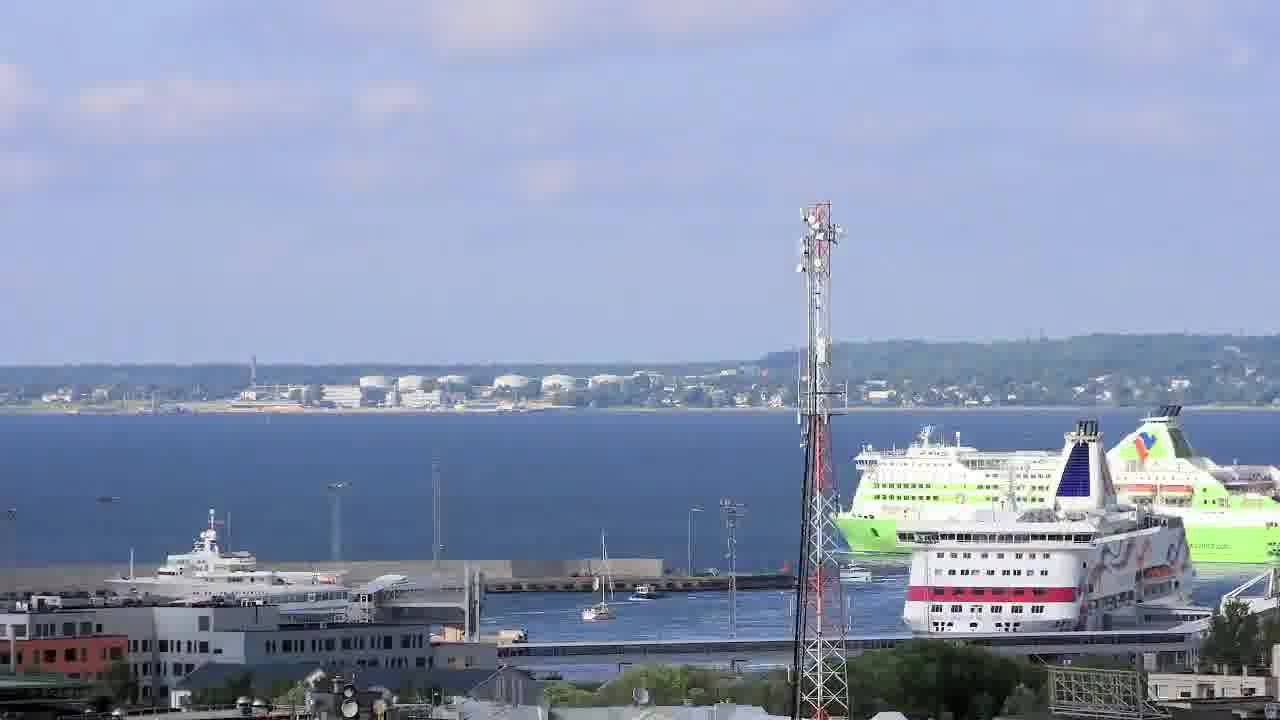type-0: (566, 595, 625, 635), (617, 577, 670, 607)
type-3: (868, 415, 1225, 638), (829, 439, 1279, 573), (84, 511, 353, 609)
